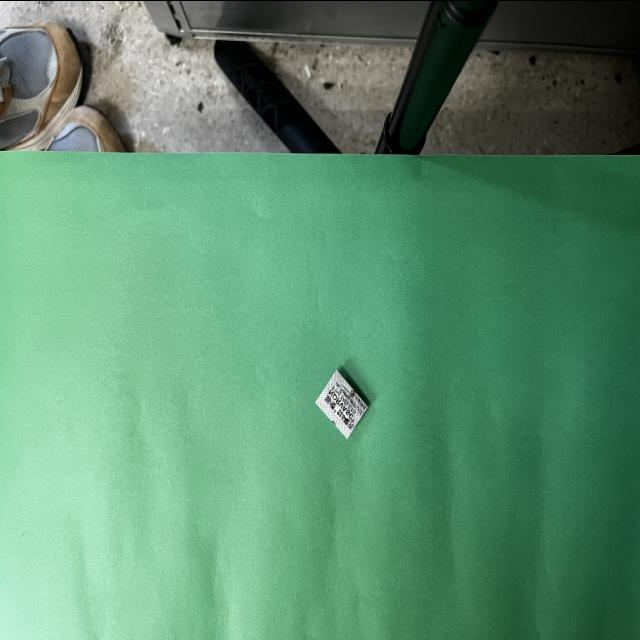Other Objects: (316, 369, 368, 437)
